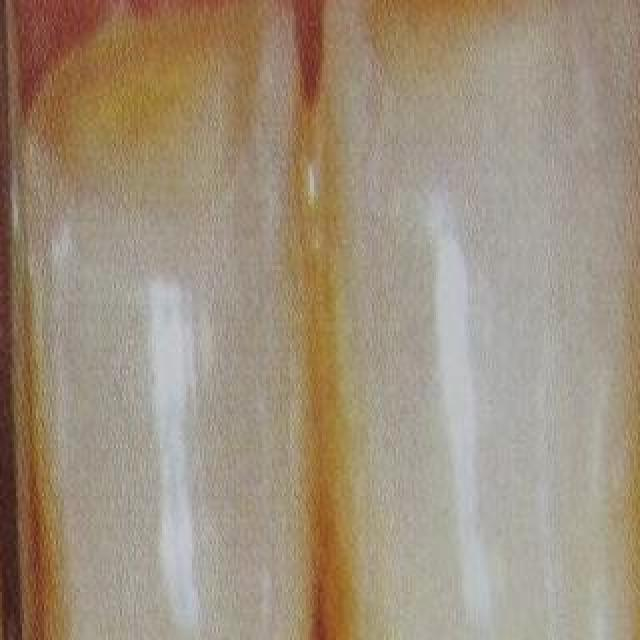spacing: (0, 382, 168, 640)
stains: (202, 368, 460, 640)
